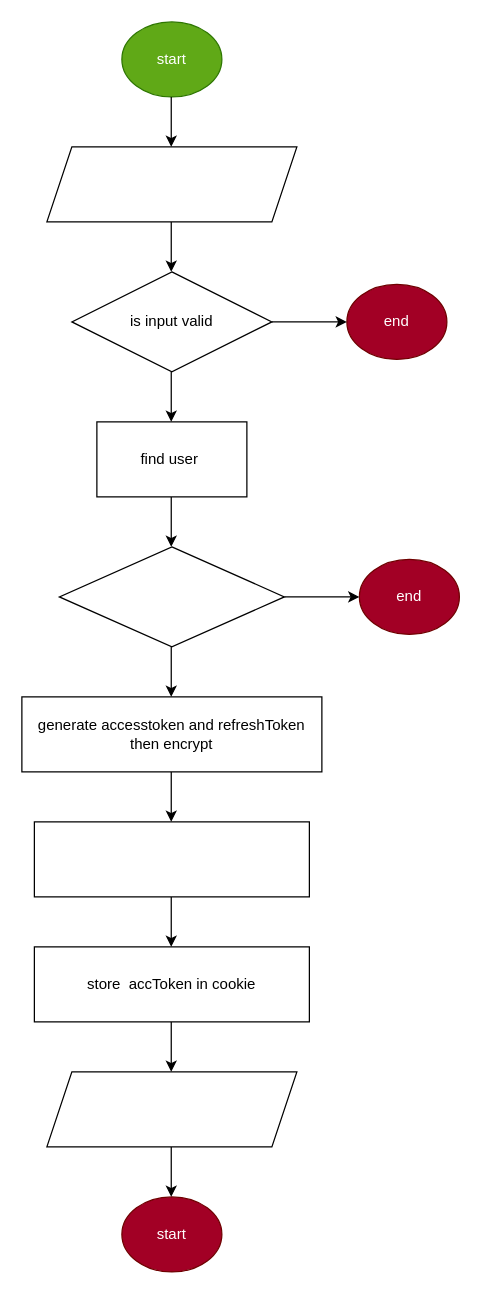
The diagram is 481 pixels wide and 1294 high, and some of its shapes have lost their labels. The centre of each missing label's shape, as x and y in pixels:
"input identity, password" goes at [171,184].
"is Password match?" goes at [171,596].
"send user data" goes at [171,1109].
"store refresh token to redis" goes at [171,859].
